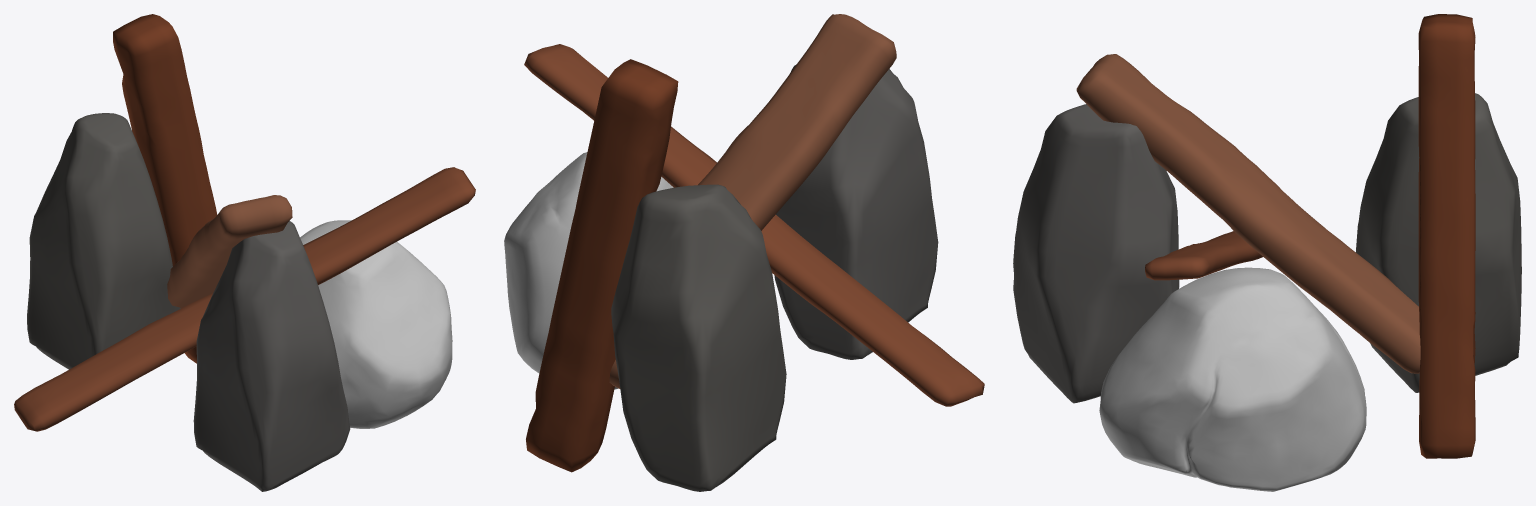
Rendered from развалины.fbx.
3 renders of one model, left to right at view 1: azimuth 30°, elevation 25°; view 2: azimuth 150°, elevation 25°; view 3: azimuth 270°, elevation 25°, orthographic. The views are drawn at different scales.
Visible parts, largest first — view 1: Rock_lod0, Rock_lod0.001, stone, medium plank LP, thick plank LP, wide plank LP; view 2: Rock_lod0.001, thick plank LP, Rock_lod0, wide plank LP, medium plank LP, stone; view 3: stone, Rock_lod0, wide plank LP, thick plank LP, Rock_lod0.001, medium plank LP.
Boxes of the visible parts, box(x1,y1,x2,y2) form: Rock_lod0: box(193, 220, 350, 491); Rock_lod0.001: box(27, 113, 180, 369); stone: box(300, 220, 452, 428); medium plank LP: box(14, 167, 475, 431); thick plank LP: box(113, 14, 217, 363); wide plank LP: box(167, 195, 292, 308); Rock_lod0.001: box(611, 184, 786, 491); thick plank LP: box(526, 59, 678, 472); Rock_lod0: box(774, 64, 938, 359); wide plank LP: box(609, 14, 896, 388); medium plank LP: box(524, 44, 984, 406); stone: box(504, 152, 673, 389); stone: box(1099, 267, 1366, 491); Rock_lod0: box(1013, 104, 1179, 403); wide plank LP: box(1076, 54, 1420, 373); thick plank LP: box(1418, 14, 1475, 458); Rock_lod0.001: box(1356, 93, 1521, 392); medium plank LP: box(1145, 231, 1262, 280).
Bounding box in the file's own units: 243 × 196 × 225.
